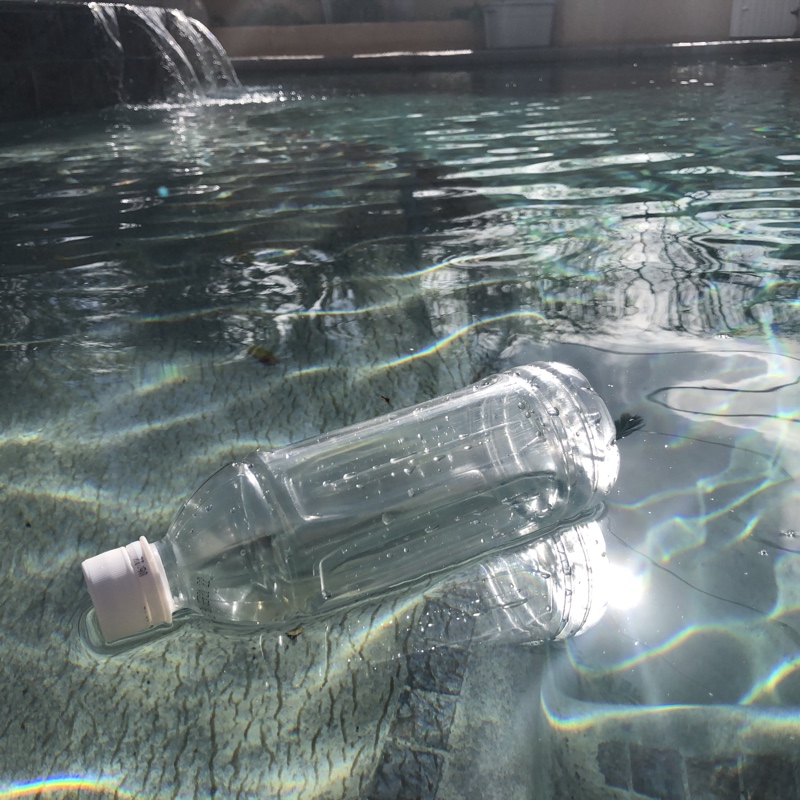Plastic Bottle: (74, 354, 625, 656)
